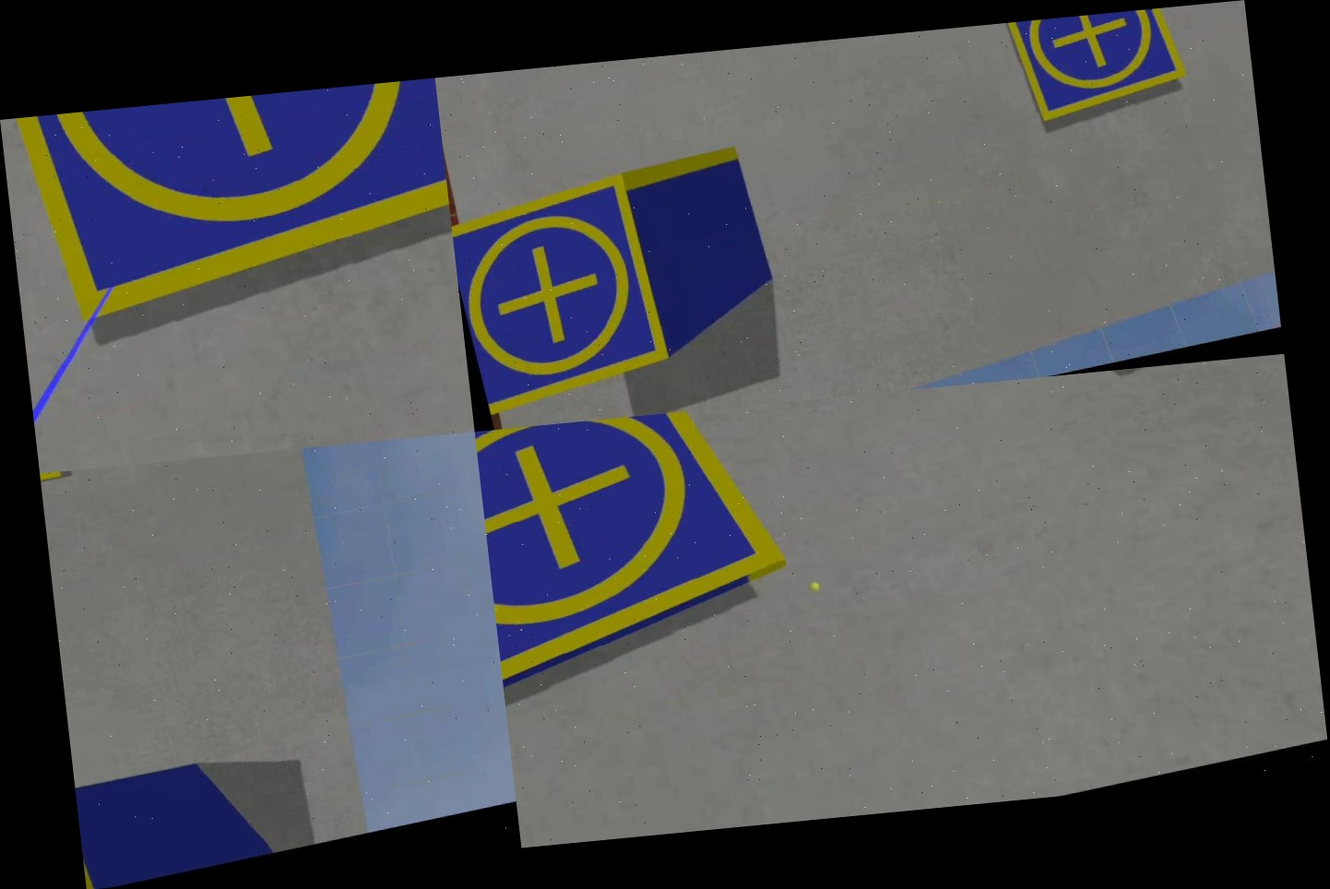small_base: (0, 77, 459, 338), (475, 402, 814, 721), (447, 167, 679, 416), (997, 6, 1195, 129)
